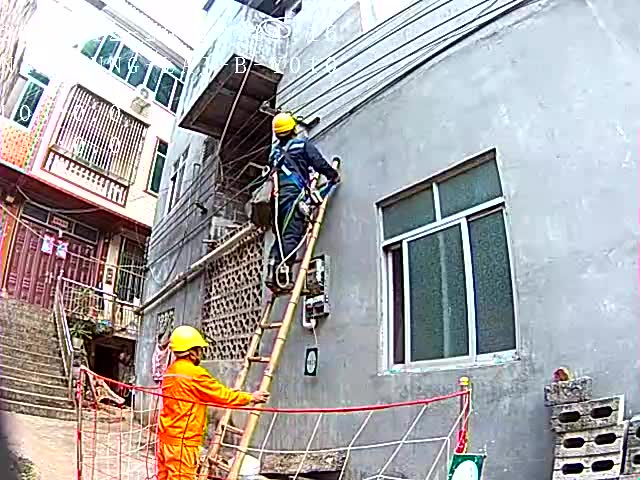halt: (171, 328, 211, 366), (276, 117, 301, 143)
